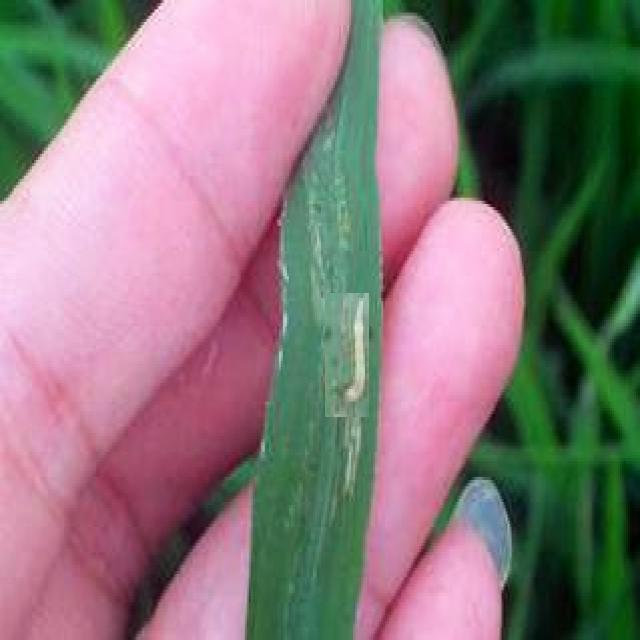leaf-folder: (325, 293, 369, 417)
